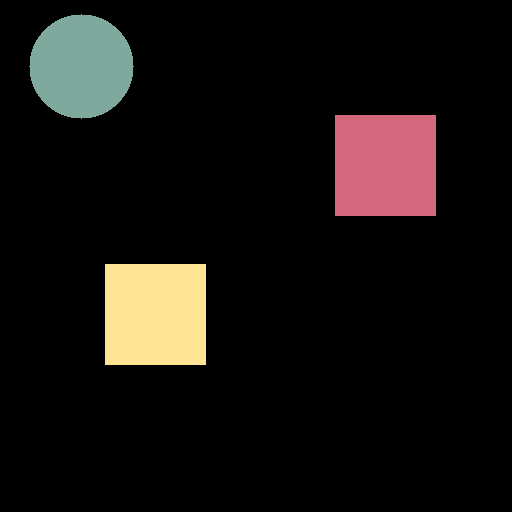circle: (29, 14, 133, 118)
square: (105, 264, 205, 364), (335, 115, 435, 215)
